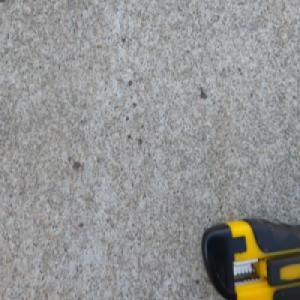Cutter: (200, 214, 300, 300)
